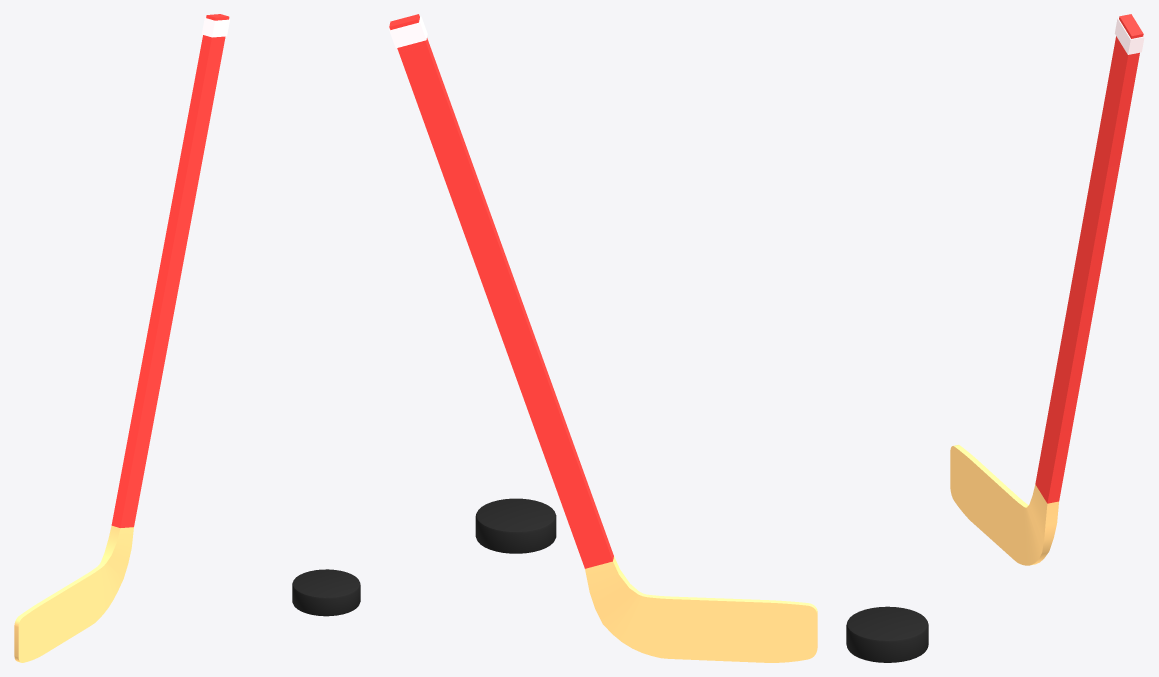
The model's file is ice_hockey.gltf.
3 renders of one model, left to right at view 1: azimuth 30°, elevation 25°; view 2: azimuth 150°, elevation 25°; view 3: azimuth 270°, elevation 25°, orthographic. The views are drawn at different scales.
Parts seen in each view (by area): view 1: Cube.820; view 2: Cube.820; view 3: Cube.820.
Boxes of the visible parts, box(x1,y1,x2,y2) form: Cube.820: box(14, 14, 360, 662); Cube.820: box(389, 14, 817, 662); Cube.820: box(846, 14, 1144, 662).
Size of the model in its own units: 1.46 by 2.39 by 1.
1 material, 1 textured.
